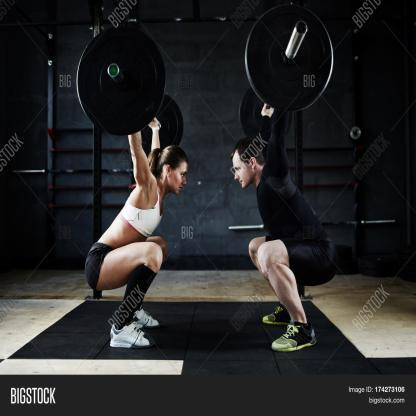barbell: (77, 26, 183, 153), (242, 5, 333, 144)
